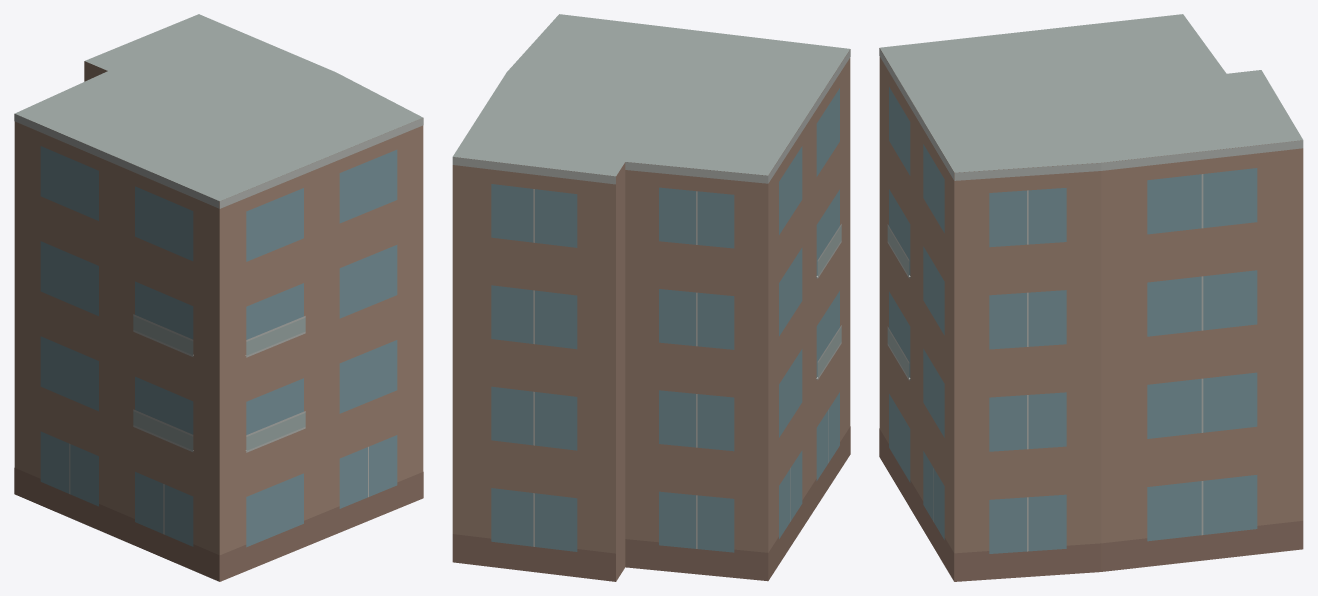
The model's file is survey-upis-32462890.glb.
The picture shows the model from 3 angles, left to right: view 1: azimuth 30°, elevation 25°; view 2: azimuth 150°, elevation 25°; view 3: azimuth 270°, elevation 25°; orthographic projection. The views are drawn at different scales.
Visible parts, largest first — view 1: survey-upis-32462890.tmp; view 2: survey-upis-32462890.tmp; view 3: survey-upis-32462890.tmp.
Boxes of the visible parts, x1,y1,x2,y2 form: survey-upis-32462890.tmp: (14, 14, 423, 581); survey-upis-32462890.tmp: (452, 14, 850, 581); survey-upis-32462890.tmp: (879, 14, 1303, 581).
Bounding box in the file's own units: 10.16 × 12.2 × 11.47.
